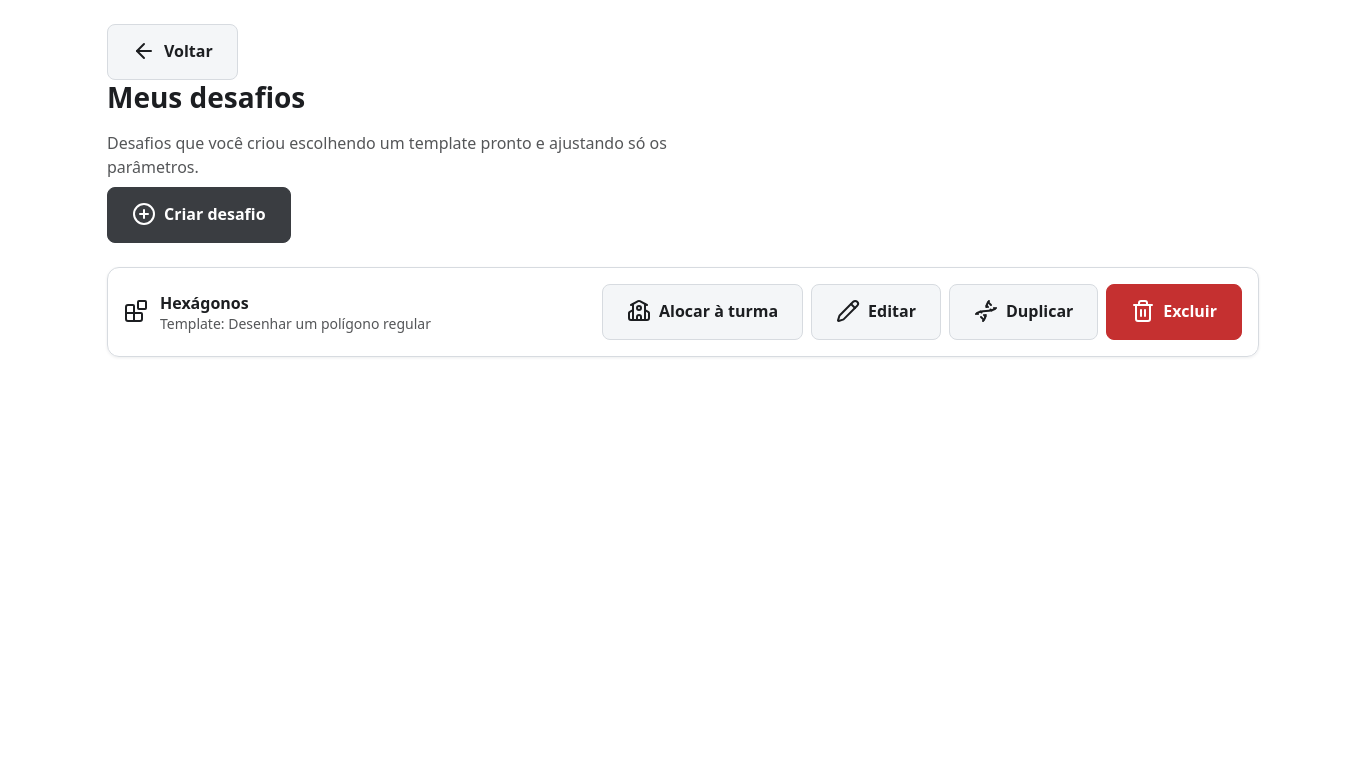
Test: TeacherChallenges › 4.3 - opens the allocation dialog for the selected challenge
The image size is (1366, 768).
Expected: the text "Hexágonos" is shown, left=160, top=292, right=249, bottom=314
Click the button "Alocar à turma" at [703, 312], box left=602, top=284, right=803, bottom=340
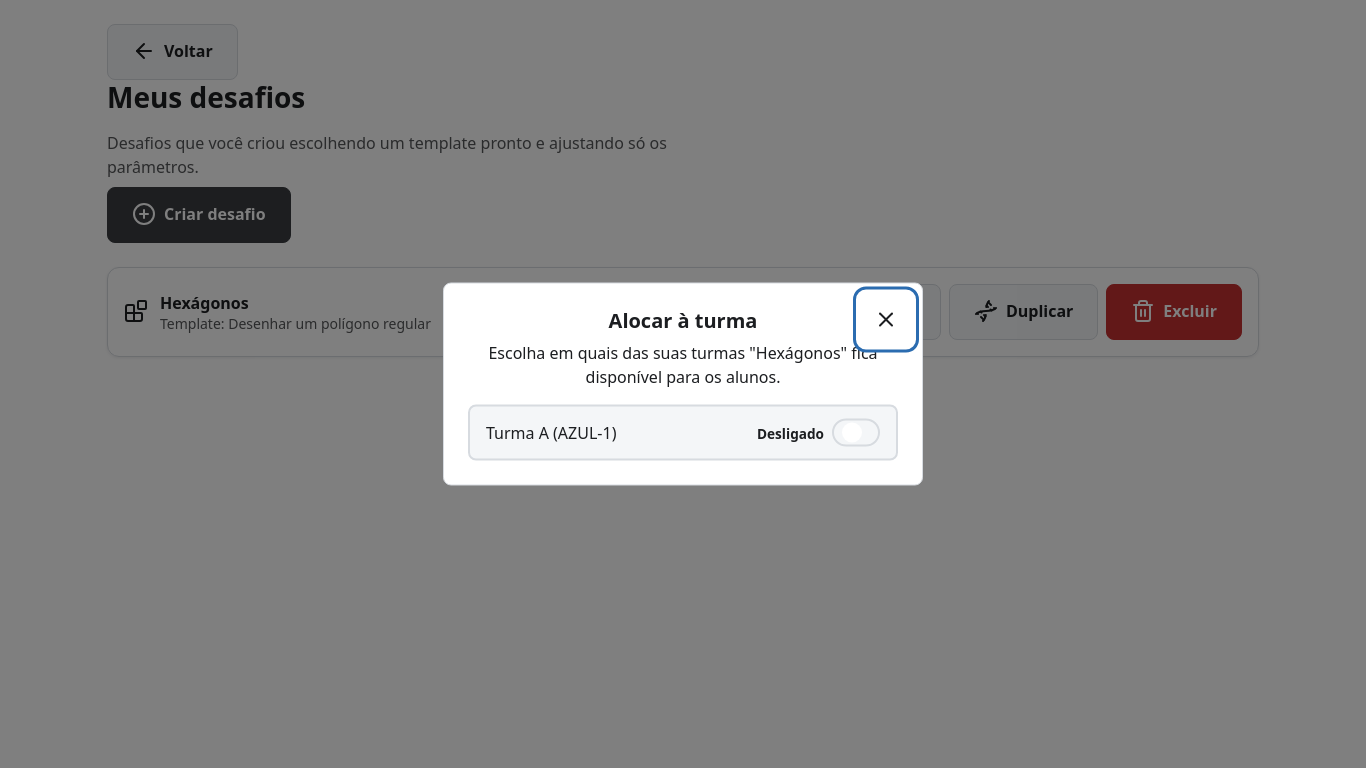
Result: the dialog "Alocar à turma" is shown at left=443, top=282, right=923, bottom=486
Result: the text "\"Hexágonos\"" is shown at left=488, top=342, right=878, bottom=388
